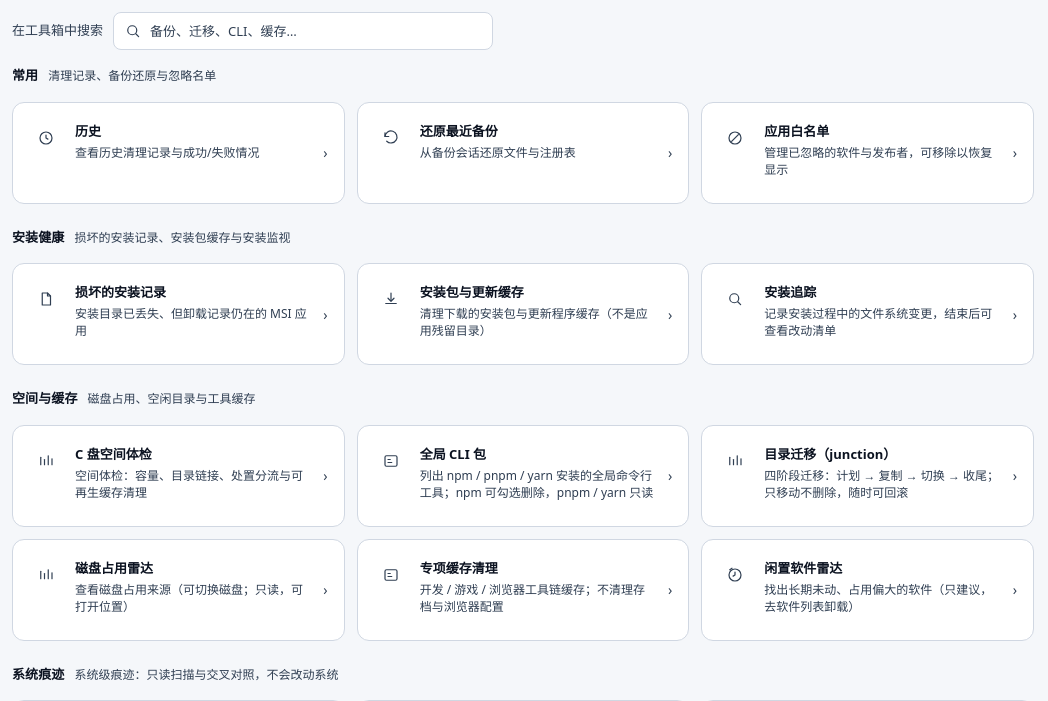
shows an explicit empty state when nothing matches
Type "no-such-tool-xyz" into the field named "搜索工具" at (303, 31), box [113, 12, 493, 50]
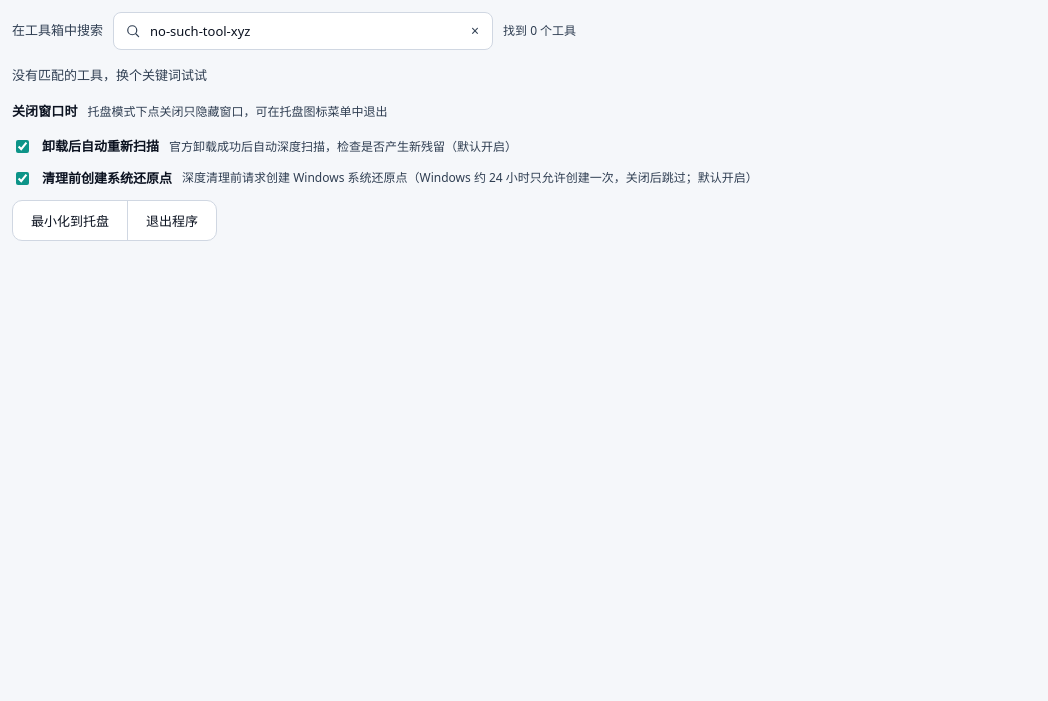
Expected: the text "没有匹配的工具，换个关键词试试" is shown, [12, 66, 207, 84]
Note: Escape clears the query as well.
Press Escape in the field named "搜索工具", box [113, 12, 493, 50]
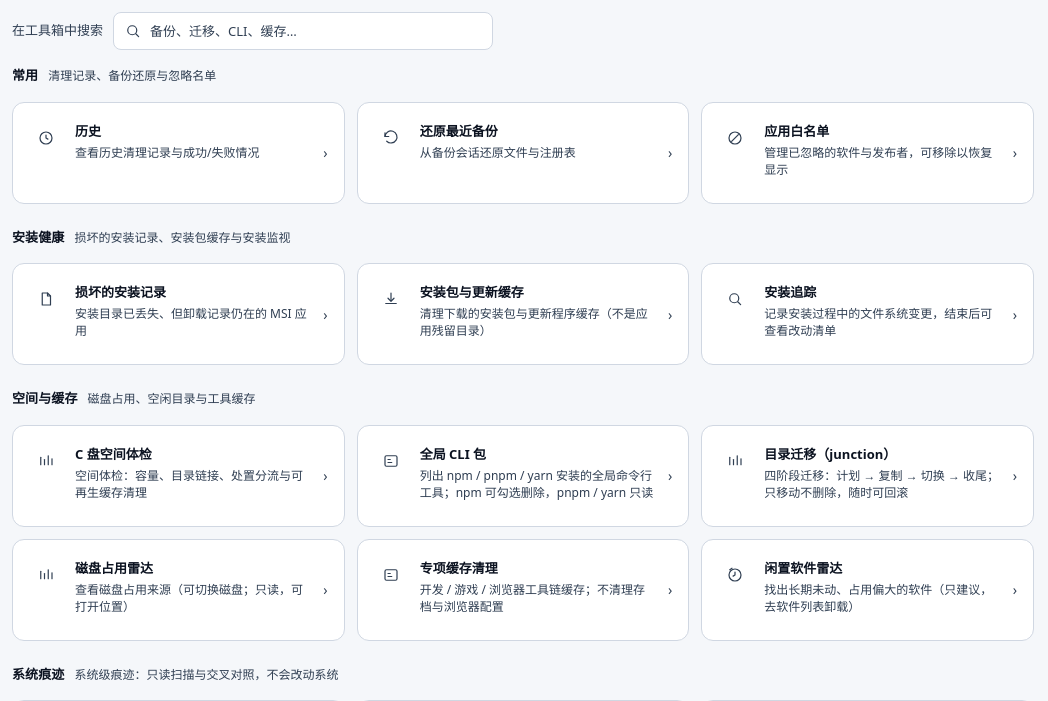
Expected: the text "没有匹配的工具，换个关键词试试" is gone
Expected: the text "常用" is shown, [12, 66, 38, 86]
